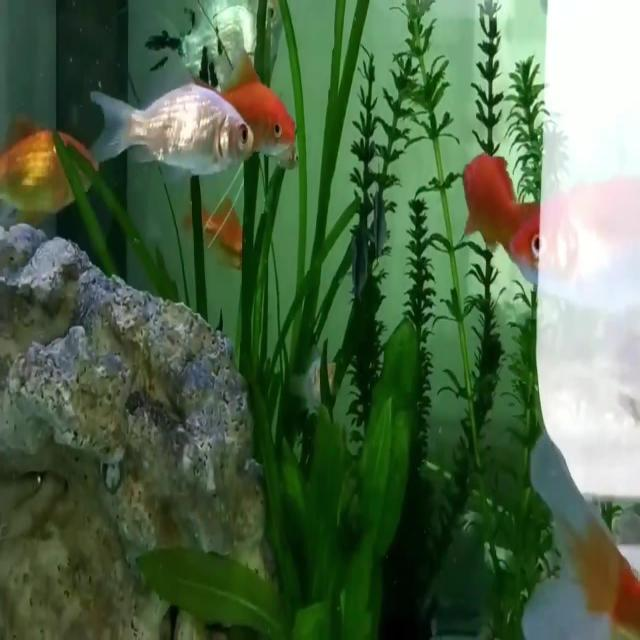GoldFish: (85, 71, 259, 195), (245, 75, 298, 161)
